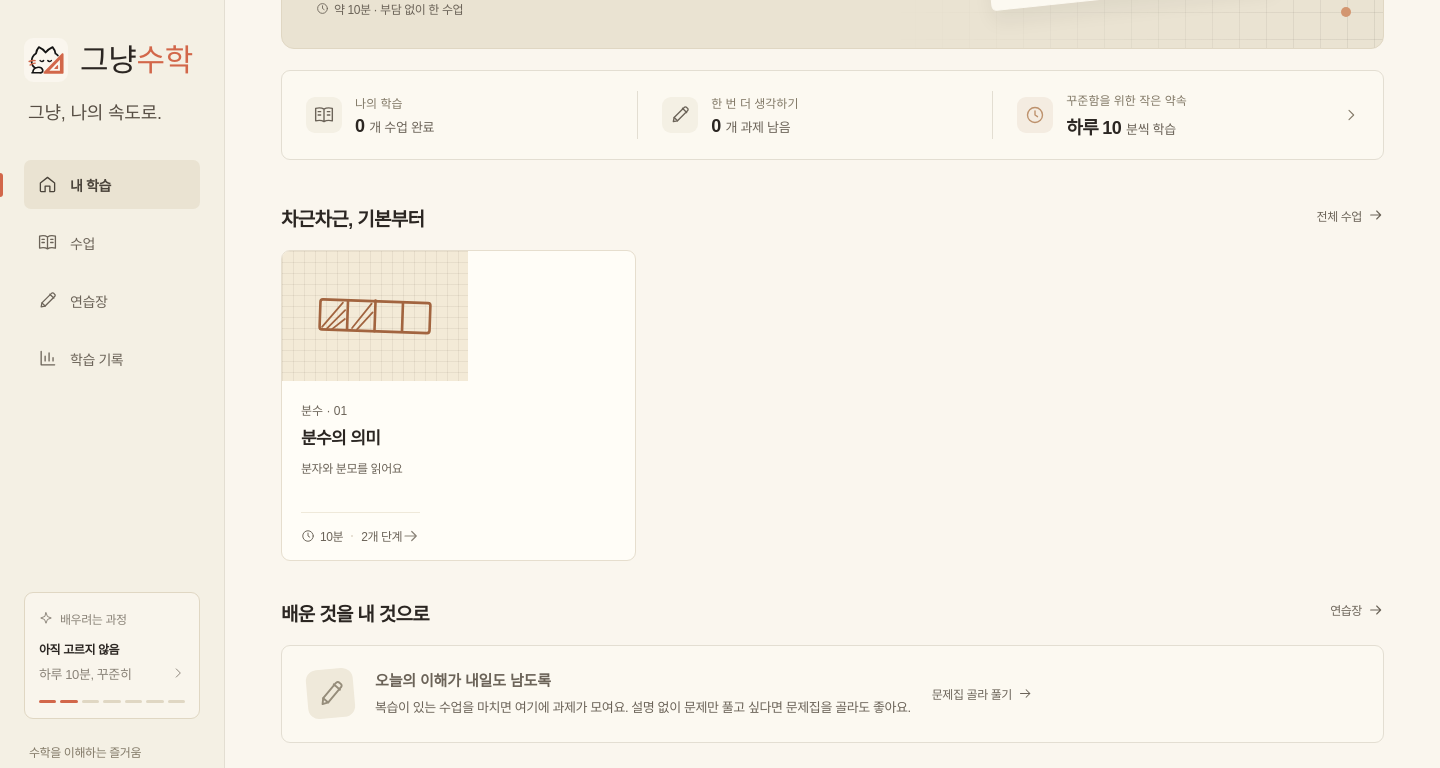
it: a lesson opened without starting it › reads the explanation but does not record anything
(page scrolled)
Expected: the heading "분수의 의미" is shown, [301,429,380,448]
Step 1. Click the button "분수 · 01 분수의 의미 분자와 분모를 읽어요 10분 2개 단계" → (375, 316), box [281,250,636,561]
Wait 1 ms
(page scrolled)
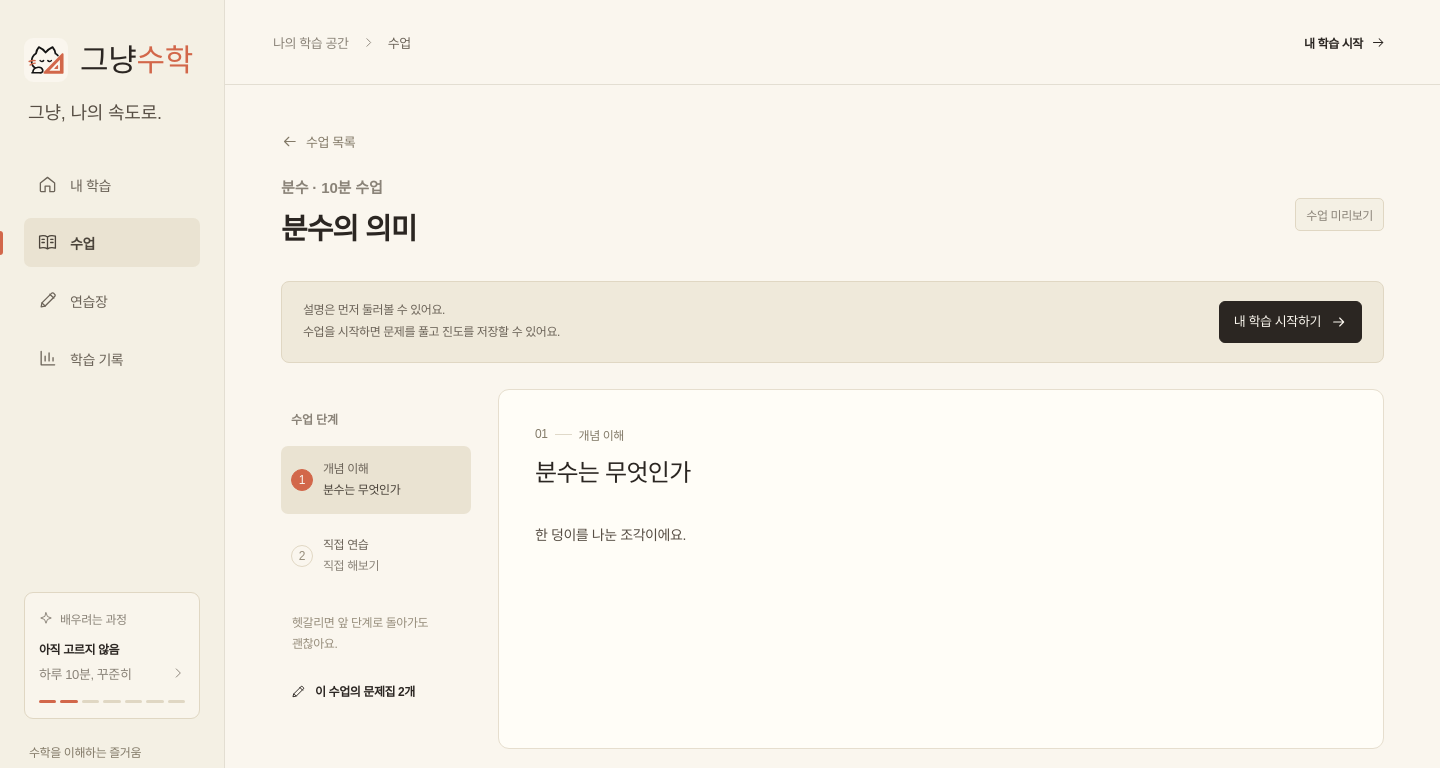
Expected: the heading "분수의 의미" is shown, [281,206,416,252]
Expected: the text "수업 미리보기" is shown, [1295,198,1384,231]
Expected: the text "설명은 먼저 둘러볼 수 있어요." is shown, [303,303,445,317]
